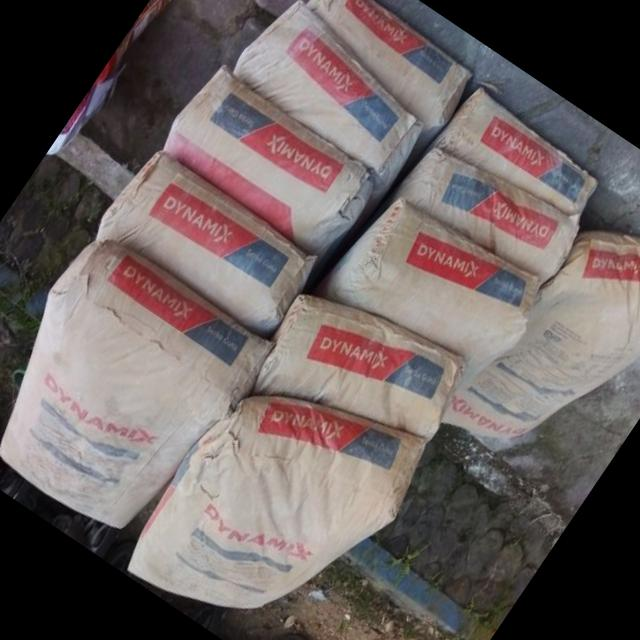KantongSemen: (117, 67, 622, 640), (0, 0, 469, 556), (446, 192, 640, 504)
